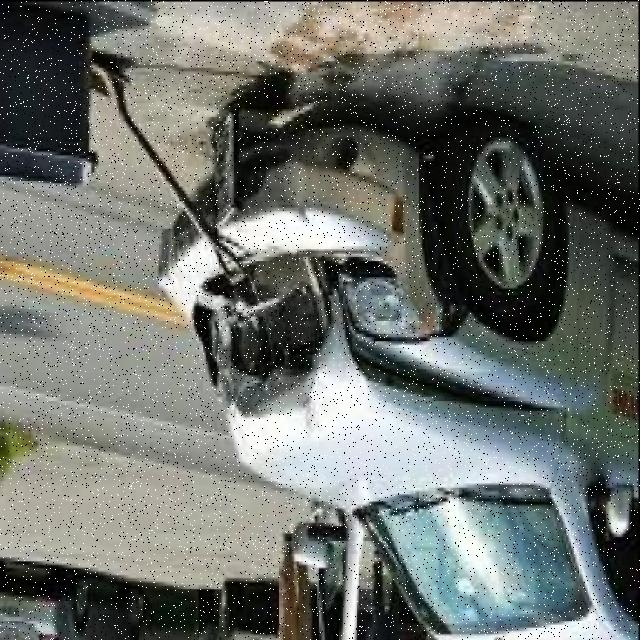damage: (154, 112, 473, 432)
